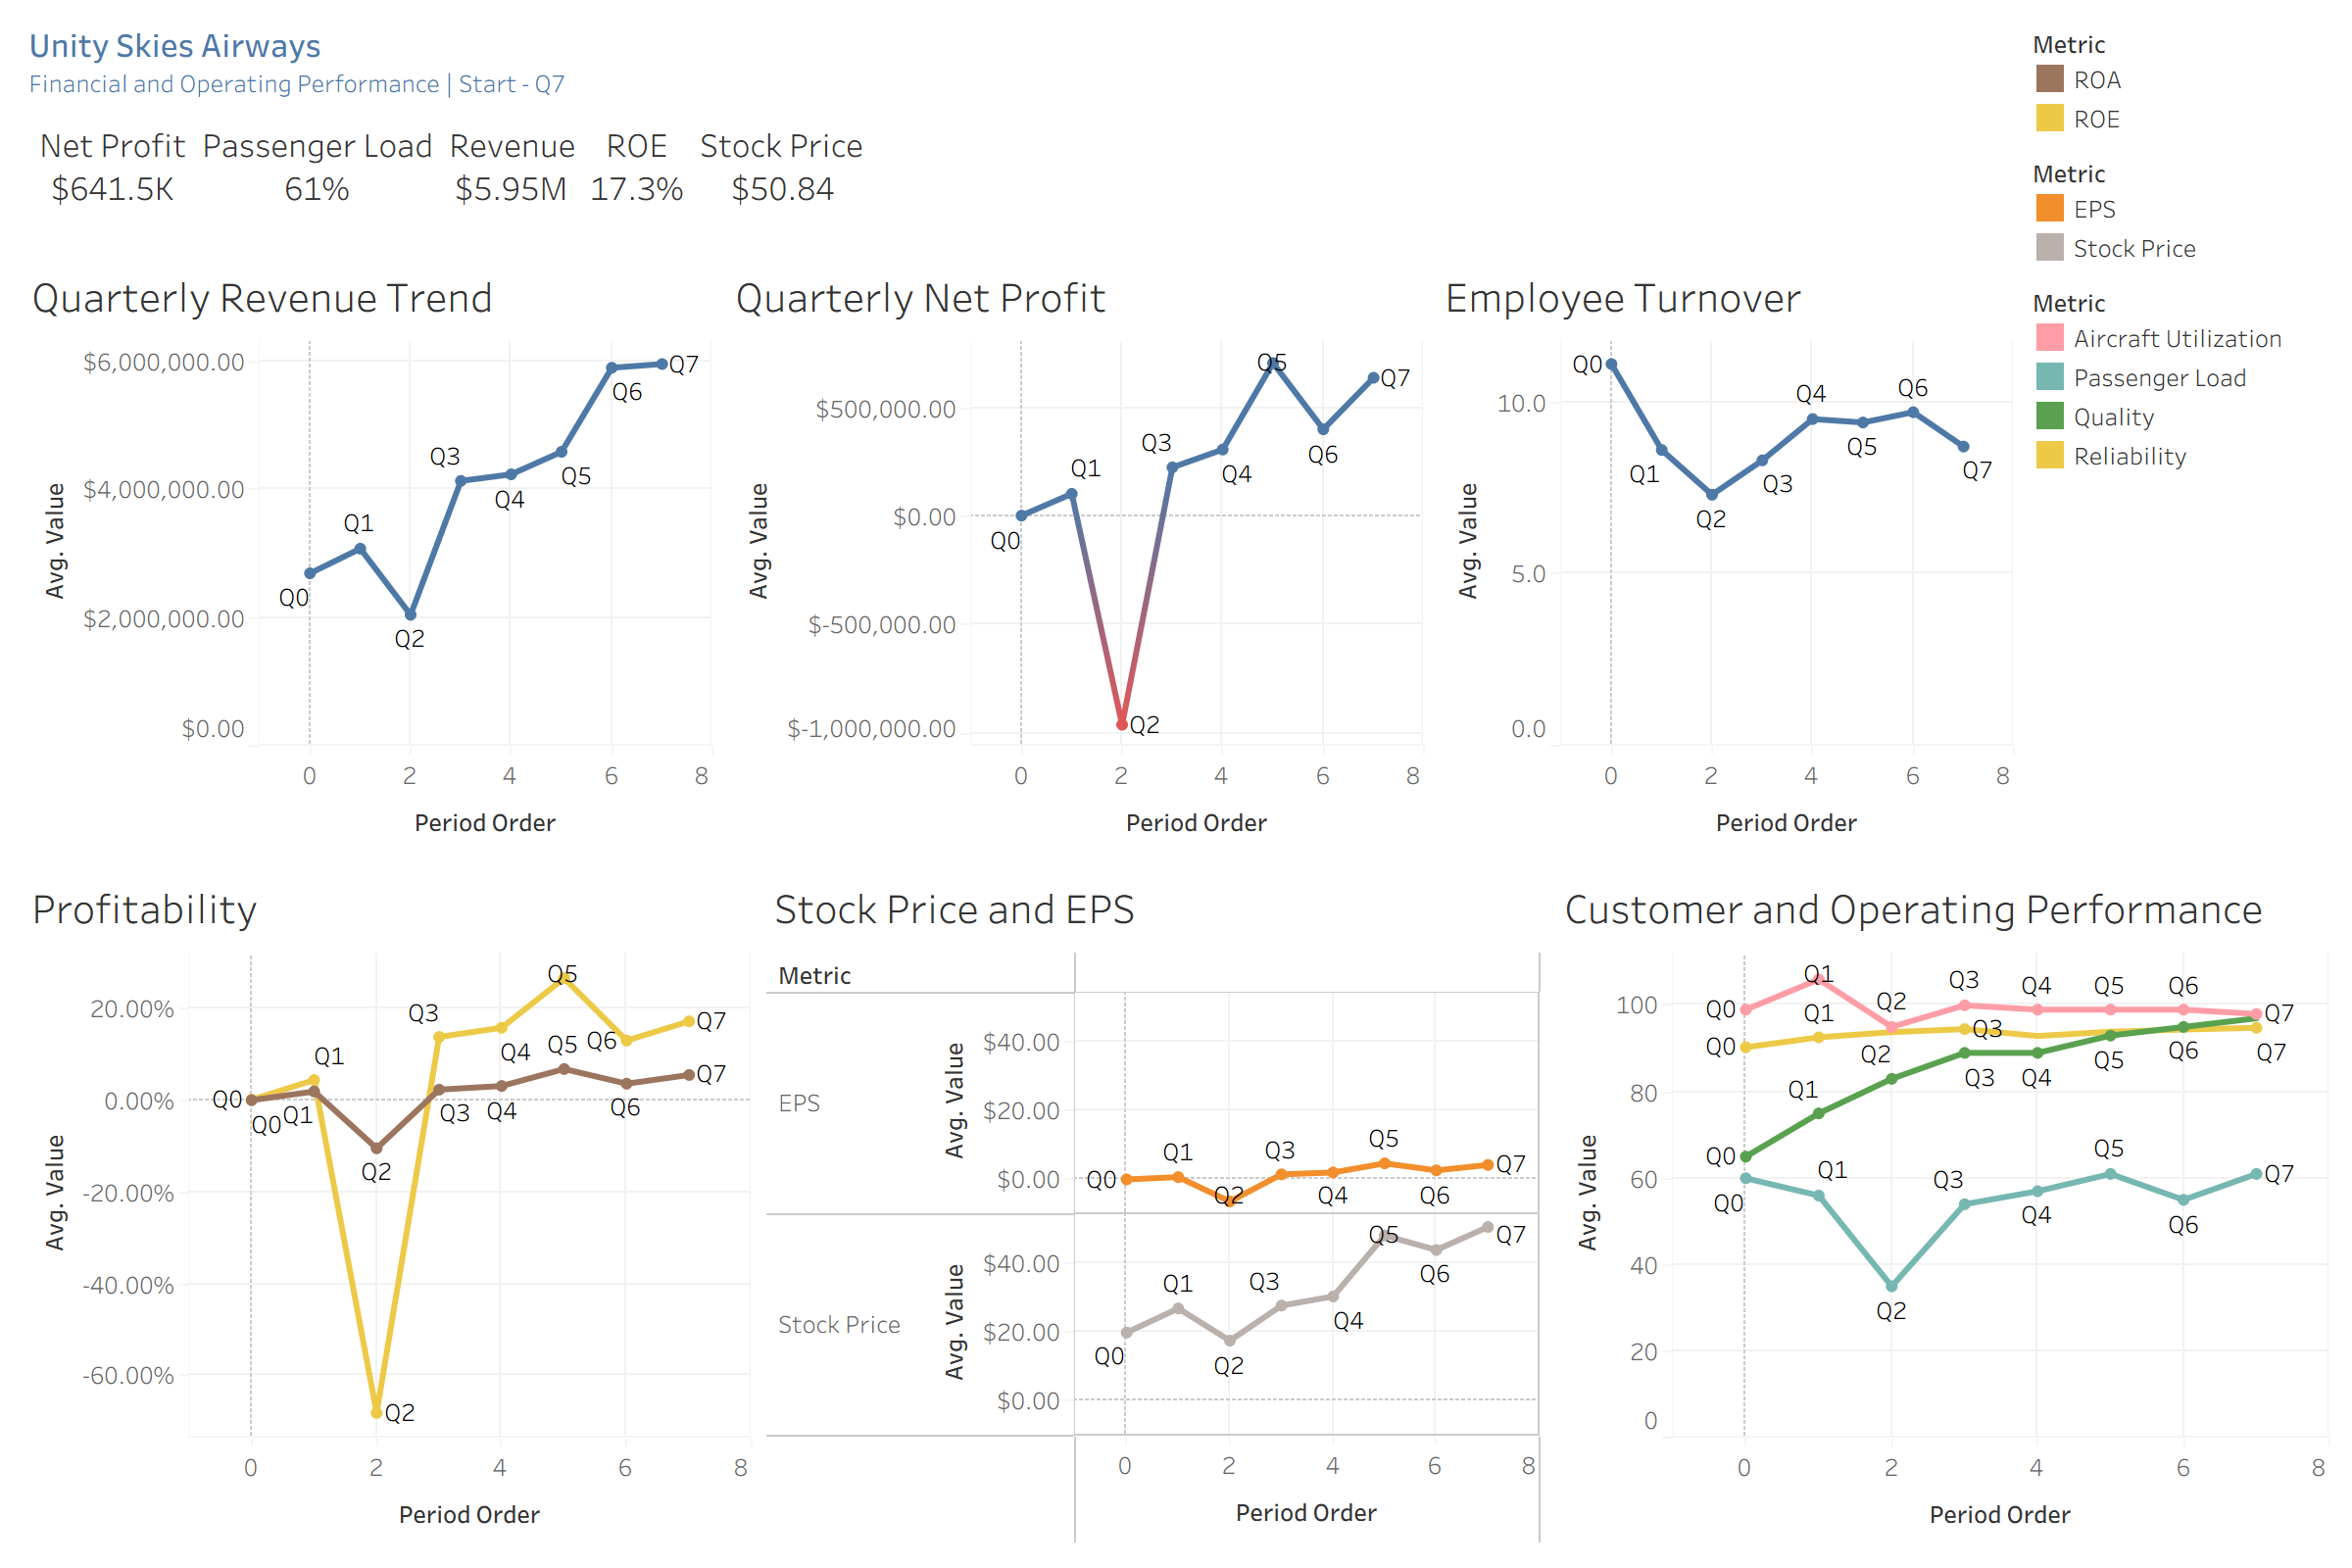

This screenshot's page, from the dashboard's own definition file:
{"tool":"tableau","page":{"name":"USA FOP","canvas":[1200,800],"ordinal":0},"visuals":[{"type":"text","box":[8,8,1024,47]},{"type":"legend","title":"Profitability","param":"[federated.0m3vtic0hcb1qp13ix5qh07dhcn9].[none:Metric:nk]","box":[1032,8,160,66]},{"type":"worksheet","title":"Latest KPI Cards","mark":"Text","box":[8,55,1024,72]},{"type":"legend","title":"Stock Price and EPS","param":"[federated.0m3vtic0hcb1qp13ix5qh07dhcn9].[none:Metric:nk]","box":[1032,74,160,66]},{"type":"worksheet","title":"Revenue Trend","mark":"Line","rows":["Value"],"cols":["Period Order"],"box":[8,127,358.7,312]},{"type":"worksheet","title":"Net Profit Trend","mark":"Line","rows":["Value"],"cols":["Period Order"],"box":[366.7,127,362.7,312]},{"type":"worksheet","title":"Turnover Trend","mark":"Line","rows":["Value"],"cols":["Period Order"],"box":[729.3,127,302.7,312]},{"type":"legend","title":"Operating Performance","param":"[federated.0m3vtic0hcb1qp13ix5qh07dhcn9].[none:Metric:nk]","box":[1032,140,160,106]},{"type":"worksheet","title":"Profitability","mark":"Line","rows":["Value"],"cols":["Period Order"],"box":[8,439,379,353]},{"type":"worksheet","title":"Stock Price and EPS","mark":"Line","rows":["Metric","Value"],"cols":["Period Order"],"box":[387,439,402.5,353]},{"type":"worksheet","title":"Operating Performance","mark":"Line","rows":["Value"],"cols":["Period Order"],"box":[789.5,439,402.5,353]}]}

Visuals, with their boxes in screenshot pixels (x1, y1, x2, y2), scaled from the page's 1200x800 canvas onto the 2352x1568 screenshot:
text: BBox(16, 16, 2023, 108)
"Profitability" legend: BBox(2023, 16, 2336, 145)
"Latest KPI Cards" worksheet (Text marks): BBox(16, 108, 2023, 249)
"Stock Price and EPS" legend: BBox(2023, 145, 2336, 274)
"Revenue Trend" worksheet (Line marks): BBox(16, 249, 718, 860)
"Net Profit Trend" worksheet (Line marks): BBox(718, 249, 1430, 860)
"Turnover Trend" worksheet (Line marks): BBox(1430, 249, 2023, 860)
"Operating Performance" legend: BBox(2023, 274, 2336, 482)
"Profitability" worksheet (Line marks): BBox(16, 860, 759, 1552)
"Stock Price and EPS" worksheet (Line marks): BBox(759, 860, 1547, 1552)
"Operating Performance" worksheet (Line marks): BBox(1547, 860, 2336, 1552)
